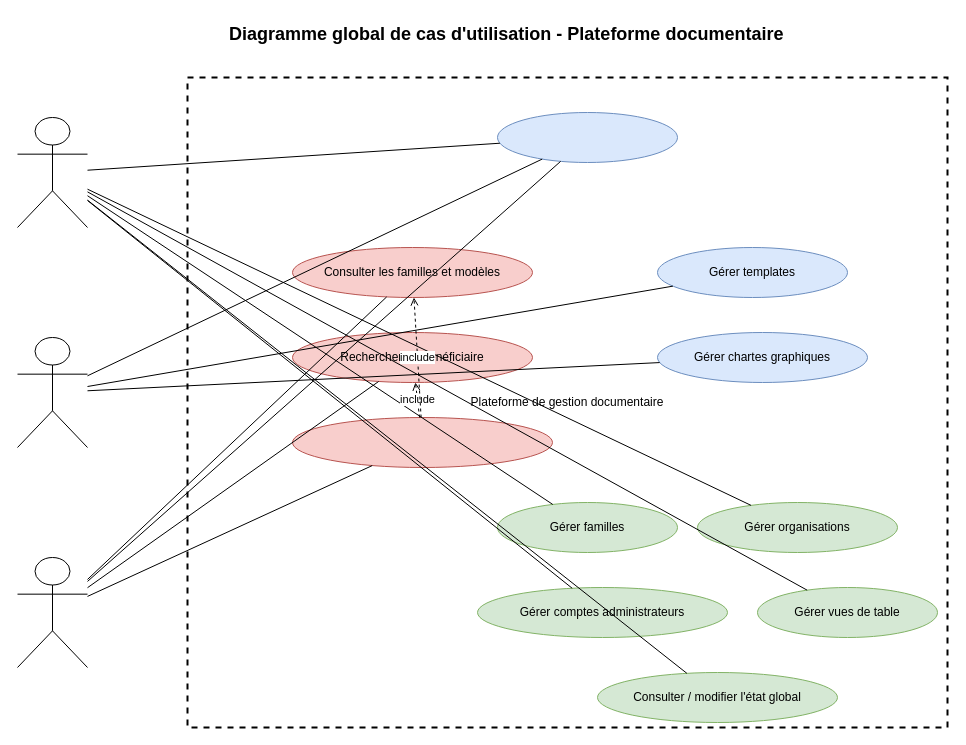
The diagram is 966 pixels wide and 745 high, and some of its shapes have lost their labels. The centre of each missing label's shape, as x and y in pixels:
"Admin" belongs at (52,392).
"Prévisualiser / générer un document" belongs at (422,442).
"S'authentifier" belongs at (587,137).
"Super Admin" belongs at (52,172).
"User" belongs at (52,612).
